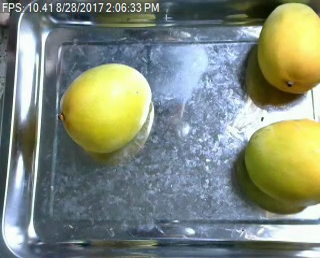Mango: (55, 61, 155, 156), (241, 118, 320, 209), (258, 1, 320, 95)
